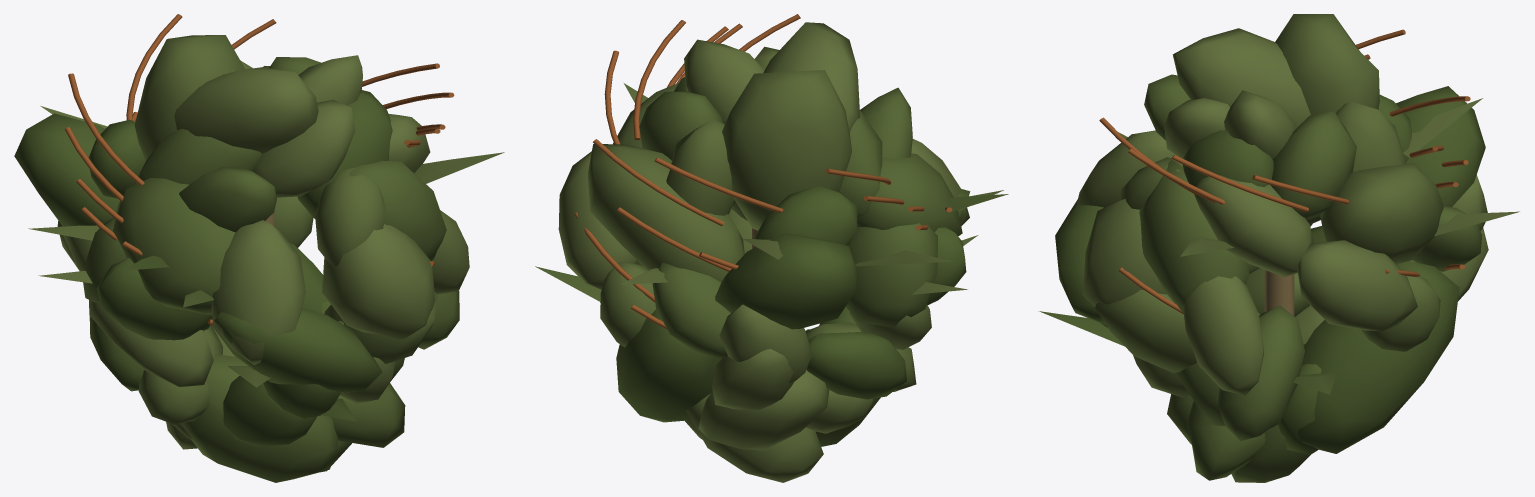
The model's file is bud_2.glb.
The picture shows the model from 3 angles, left to right: view 1: azimuth 30°, elevation 25°; view 2: azimuth 150°, elevation 25°; view 3: azimuth 270°, elevation 25°; orthographic projection.
Parts seen in each view (by area): view 1: Bud_2; view 2: Bud_2; view 3: Bud_2.
Part boxes in pixels (box(x1,y1,x2,y2)): Bud_2: box(14, 14, 504, 482); Bud_2: box(535, 14, 1008, 482); Bud_2: box(1038, 14, 1519, 482).
Size of the model in its own units: 0.00555 by 0.00537 by 0.00558.
